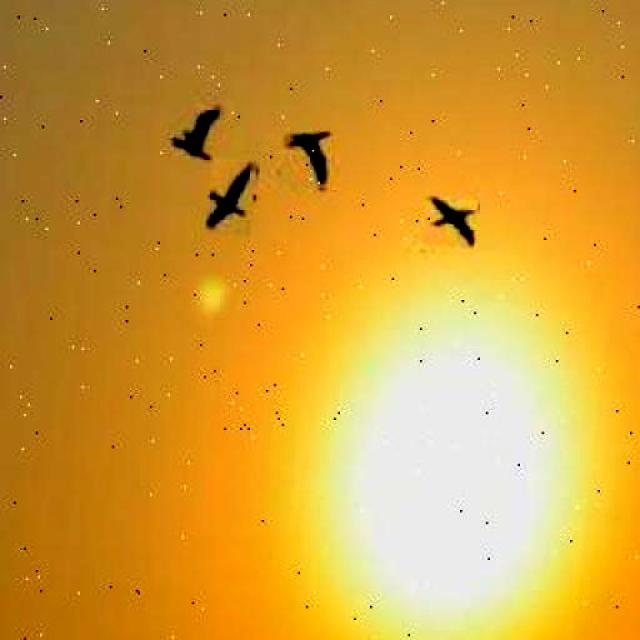airplane: (204, 156, 256, 236), (166, 102, 220, 162), (279, 128, 332, 189), (421, 195, 478, 249)
